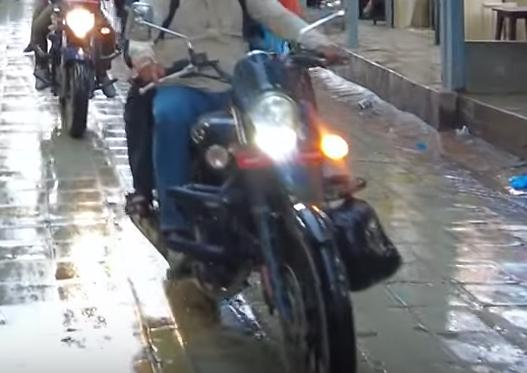bike: (113, 2, 409, 373)
